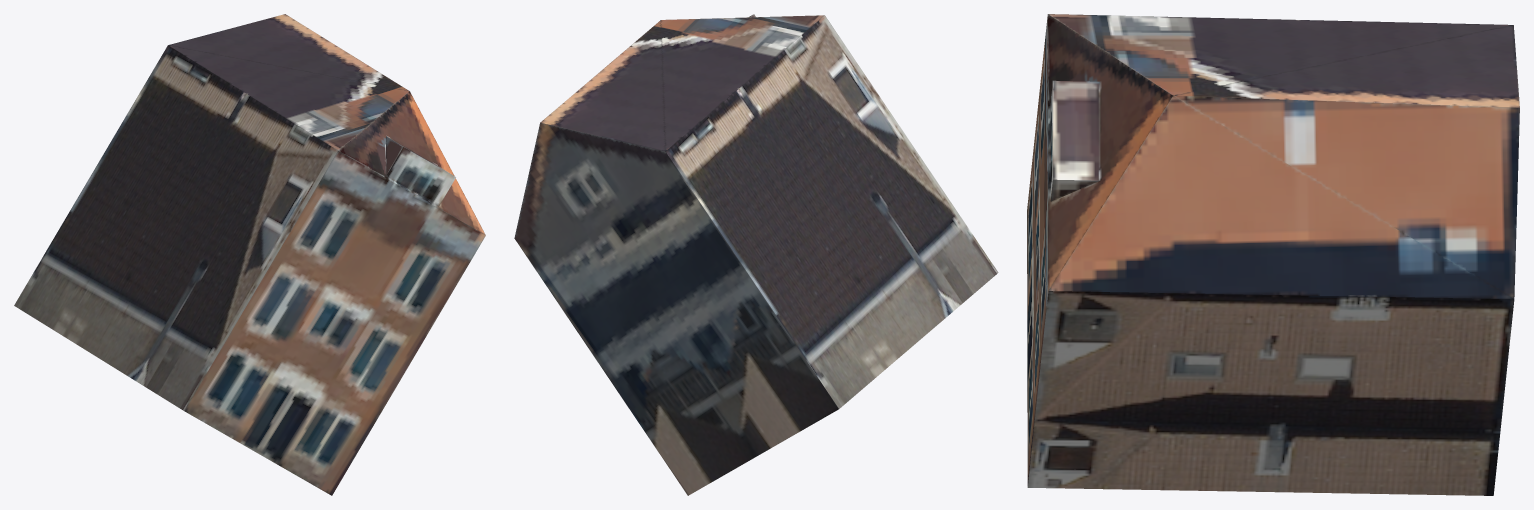
The picture shows the model from 3 angles, left to right: view 1: azimuth 30°, elevation 25°; view 2: azimuth 150°, elevation 25°; view 3: azimuth 270°, elevation 25°; orthographic projection. The views are drawn at different scales.
Parts seen in each view (by area): view 1: BAG_0599100000675868 (×4); view 2: BAG_0599100000675868 (×3); view 3: BAG_0599100000675868 (×5).
Boxes of the visible parts, <box> form: BAG_0599100000675868 (×4): <box>14,14,485,495</box>; BAG_0599100000675868 (×3): <box>514,15,998,495</box>; BAG_0599100000675868 (×5): <box>1027,14,1519,495</box>.
Size of the model in its own units: 13.32 by 13.94 by 12.51.
5 materials, 5 textured.
